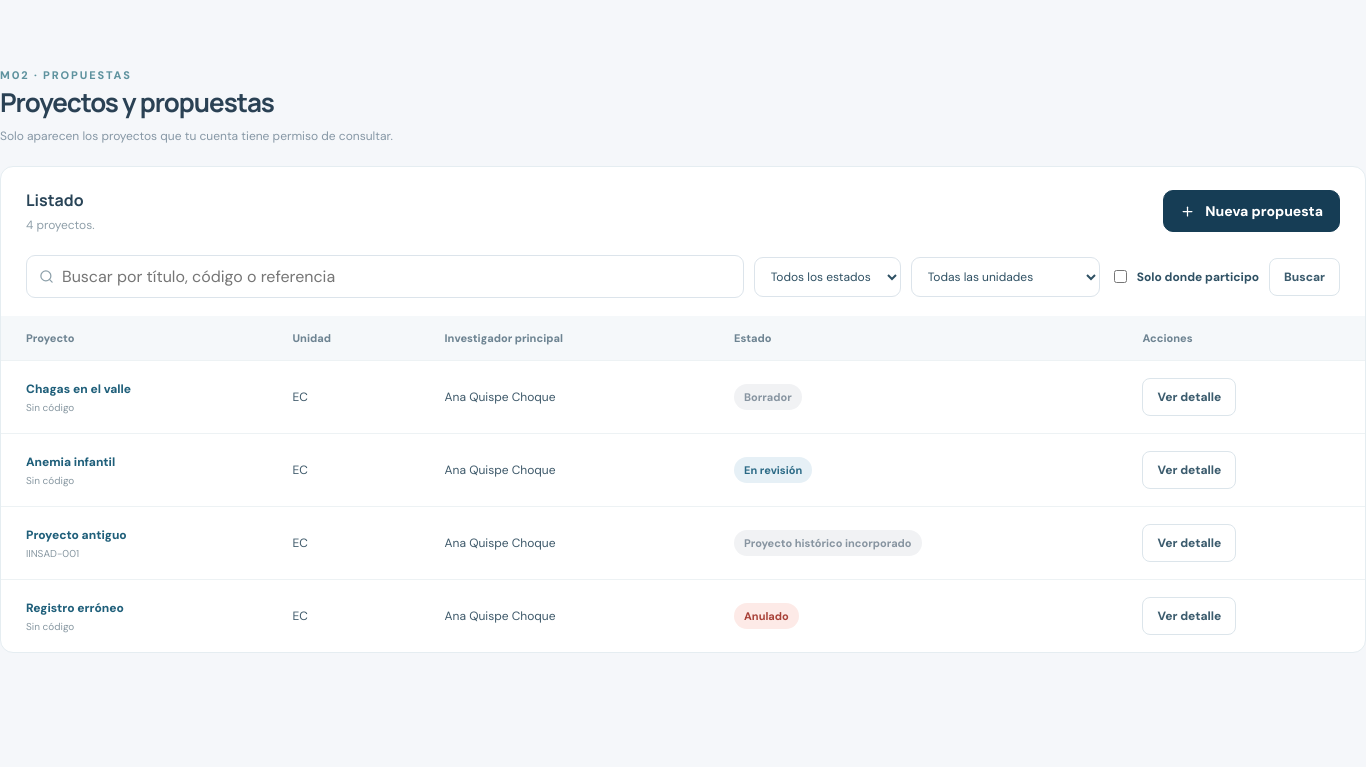
Test case: ProjectsPage: listado › «Ver detalle» abre el expediente
This screenshot has width=1366, height=767.
Click the link with aria-label "Ver detalle de Chagas en el valle" at point(1189, 397), box [1142,378,1236,416]
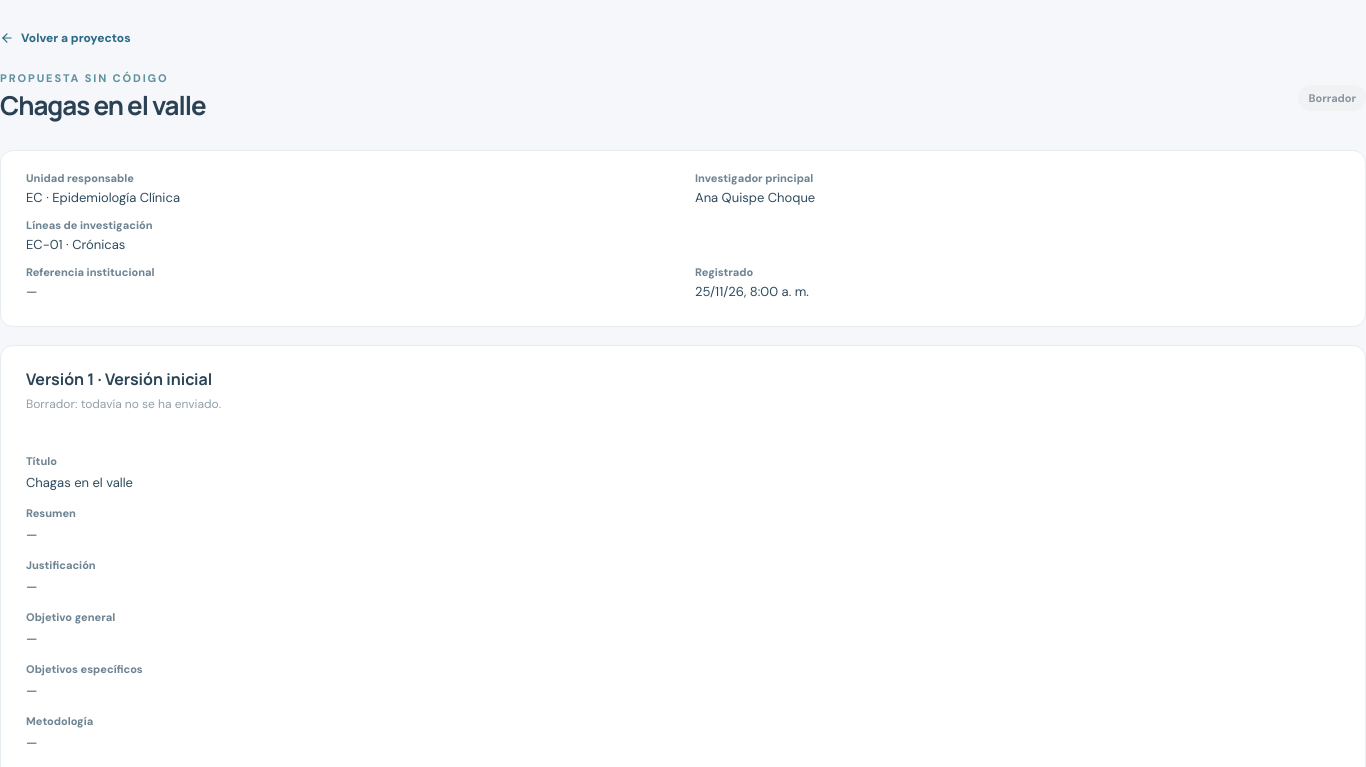
Expected: the heading "Chagas en el valle" is shown, [0,87,206,123]
